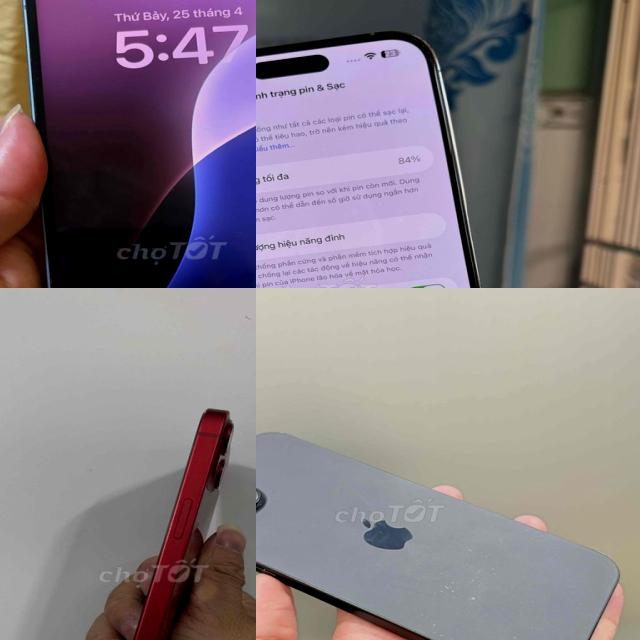gen_12_13: (19, 0, 256, 288), (107, 395, 256, 640)
gen_14: (256, 25, 515, 288)
gen_15: (256, 412, 629, 640)
